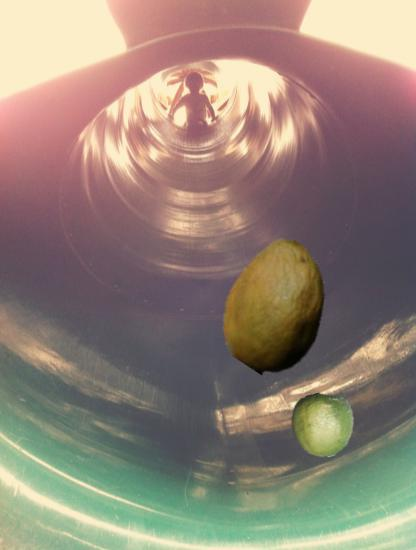Limes: (291, 392, 357, 458)
Papaya: (212, 242, 344, 374)
